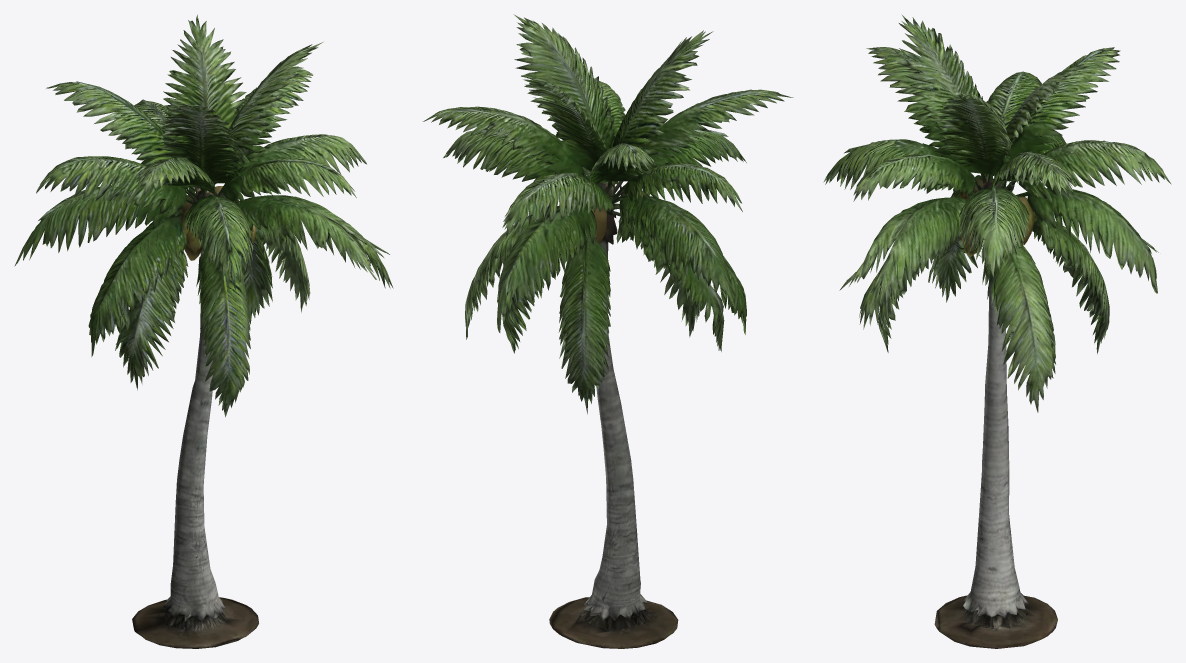
Rendered from CCG_Palm_A_web.glb.
3 renders of one model, left to right at view 1: azimuth 30°, elevation 25°; view 2: azimuth 150°, elevation 25°; view 3: azimuth 270°, elevation 25°, orthographic. The views are drawn at different scales.
Parts seen in each view (by area): view 1: tripo_node_b1452e32-6d03-41e2-ac68-425b37022fa4; view 2: tripo_node_b1452e32-6d03-41e2-ac68-425b37022fa4; view 3: tripo_node_b1452e32-6d03-41e2-ac68-425b37022fa4.
Part boxes in pixels (x1,y1,x2,y2): tripo_node_b1452e32-6d03-41e2-ac68-425b37022fa4: (14,14,393,648); tripo_node_b1452e32-6d03-41e2-ac68-425b37022fa4: (423,14,793,648); tripo_node_b1452e32-6d03-41e2-ac68-425b37022fa4: (823,14,1171,648).
Bounding box in the file's own units: 0.5847 × 0.9837 × 0.5351.
1 material, 1 textured.
